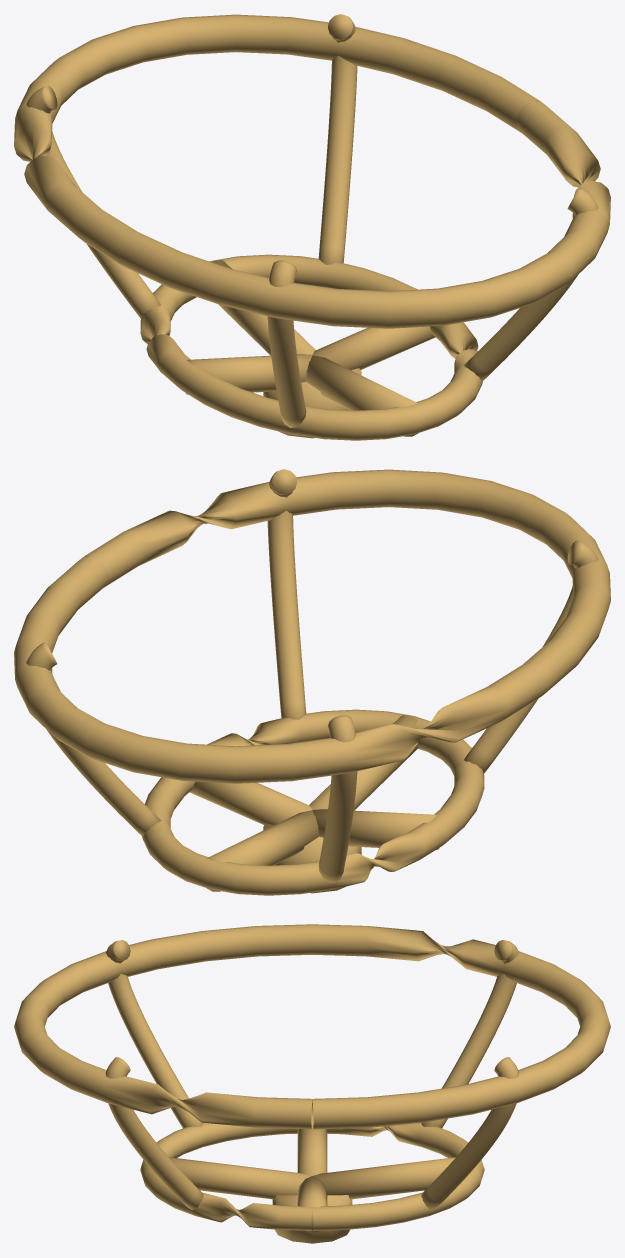
The model's file is demo-oval-bezel.glb.
3 views of the same model, one above another, from view 1: azimuth 30°, elevation 25°; view 2: azimuth 150°, elevation 25°; view 3: azimuth 270°, elevation 25° (orthographic). The views are drawn at different scales.
Parts seen in each view (by area): view 1: Metal.094, Metal.093, Metal.095, Metal.097, Metal.098, Metal.092, Metal.089, Metal.096, Metal.090, Metal.091, Metal.088; view 2: Metal.094, Metal.093, Metal.098, Metal.096, Metal.095, Metal.091, Metal.089, Metal.097, Metal.090, Metal.092, Metal.088; view 3: Metal.094, Metal.093, Metal.097, Metal.091, Metal.092, Metal.096, Metal.098, Metal.095, Metal.090, Metal.088, Metal.089.
Part boxes in pixels (x1,y1,x2,y2): Metal.094: (14,14,610,328); Metal.093: (140,254,482,440); Metal.095: (318,14,357,264); Metal.097: (267,260,306,427); Metal.098: (464,187,598,381); Metal.092: (306,355,418,436); Metal.089: (312,326,435,369); Metal.096: (26,85,160,318); Metal.090: (185,354,312,394); Metal.091: (212,260,315,355); Metal.088: (263,368,361,438); Metal.094: (14,469,610,783); Metal.093: (142,709,484,895); Metal.098: (267,469,306,719); Metal.096: (318,715,357,882); Metal.095: (26,642,160,836); Metal.091: (206,810,318,891); Metal.089: (189,781,312,824); Metal.097: (464,540,598,773); Metal.090: (312,809,439,849); Metal.092: (309,715,417,810); Metal.088: (263,823,361,893); Metal.094: (14,924,610,1129); Metal.093: (140,1123,484,1230); Metal.097: (106,940,203,1128); Metal.091: (313,1157,455,1199); Metal.092: (169,1157,311,1199); Metal.096: (421,940,518,1128); Metal.098: (105,1057,203,1209); Metal.095: (421,1057,519,1209); Metal.090: (297,1128,327,1175); Metal.088: (272,1195,352,1243); Metal.089: (297,1176,327,1232).
Size of the model in its own units: 7.24 by 4.1 by 9.74.
